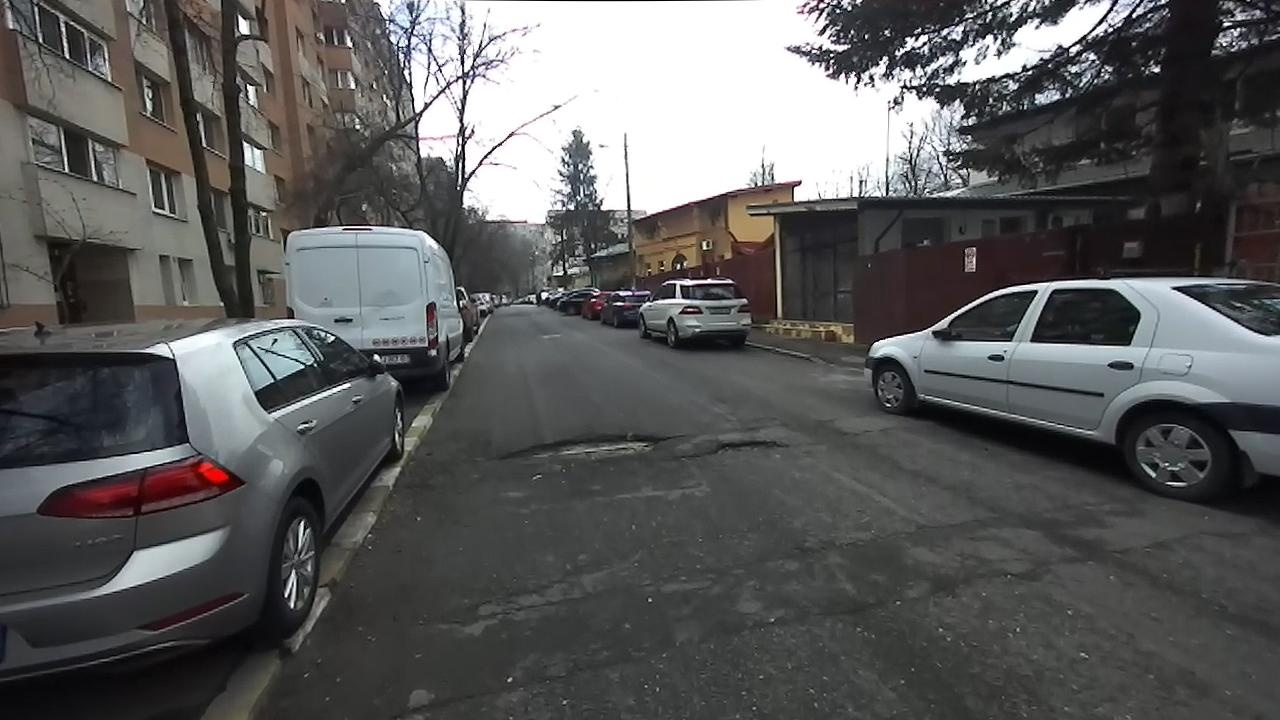pothole: (489, 428, 677, 465), (679, 436, 788, 464)
